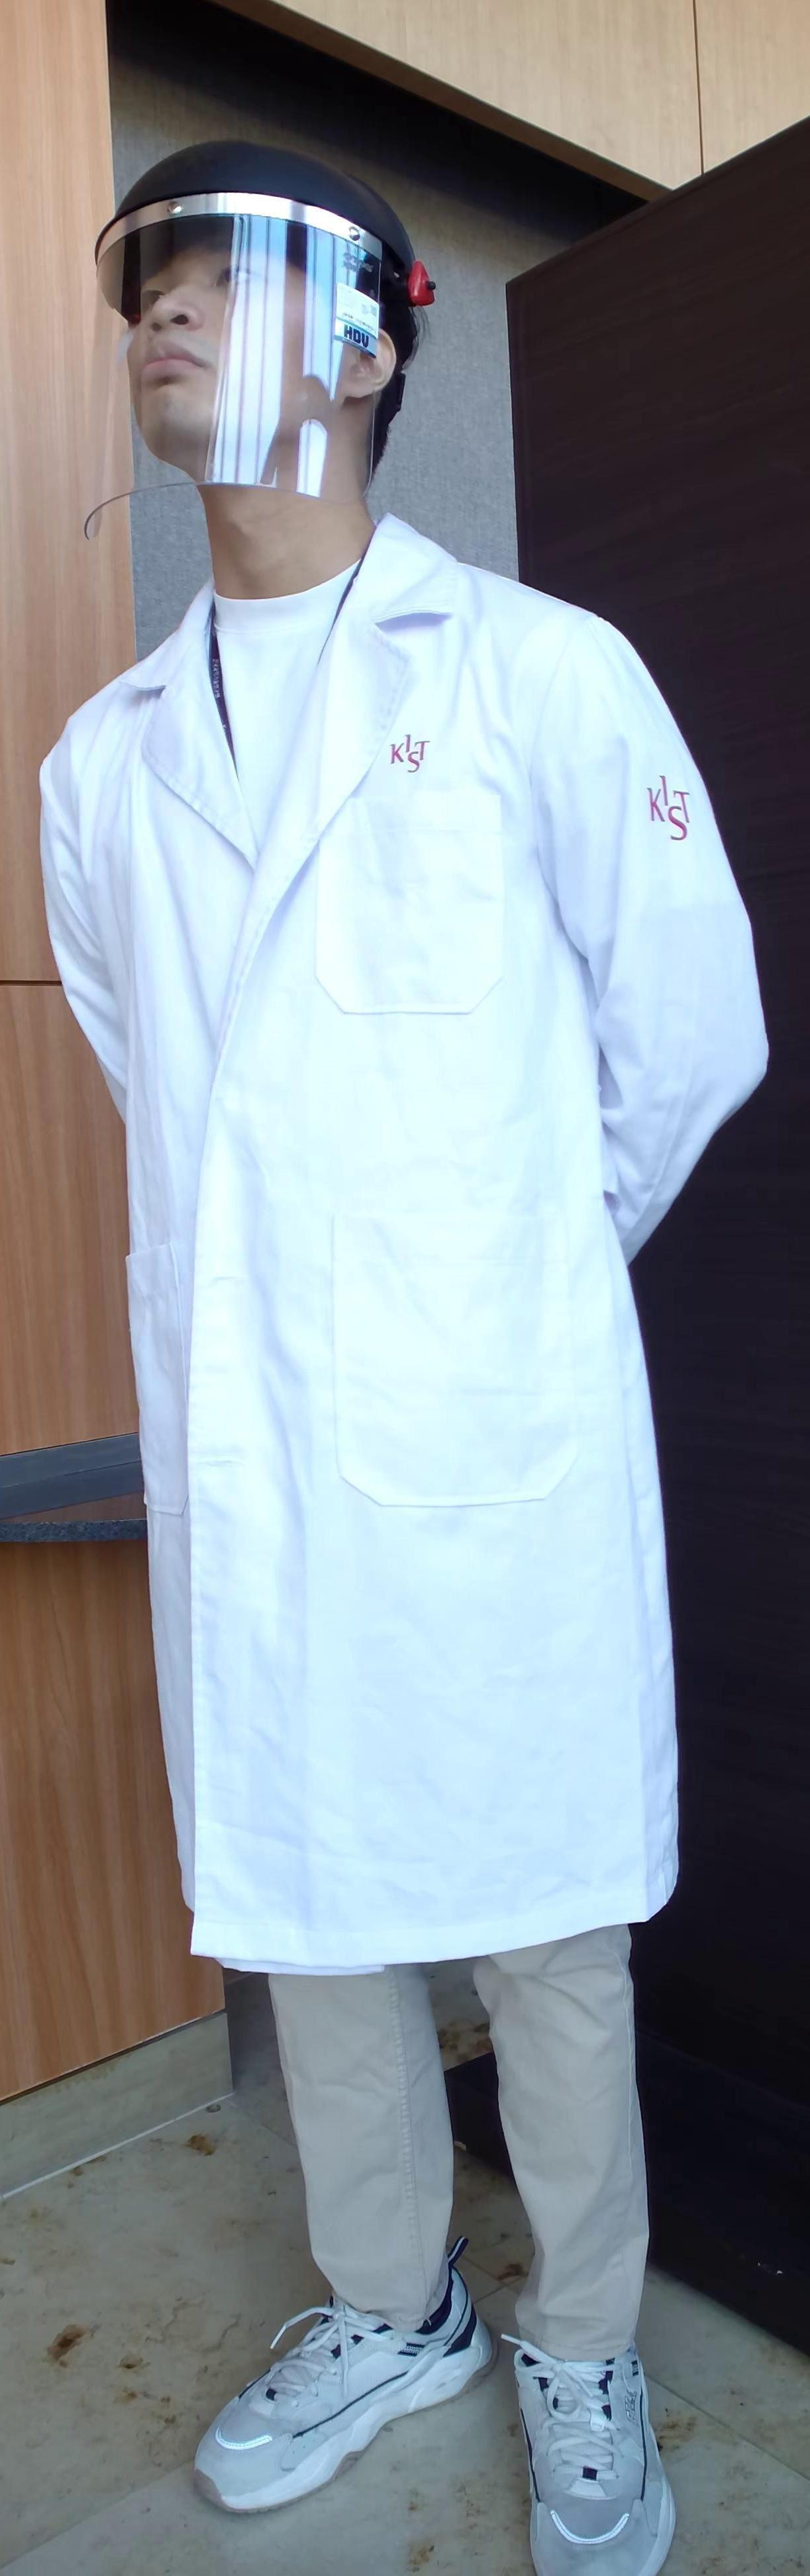lab_coat: (0, 644, 751, 1945)
